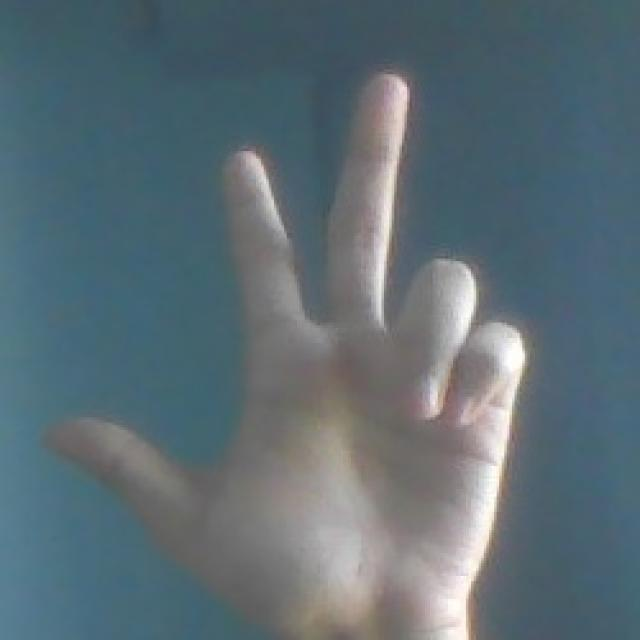Numeric-3: (42, 66, 530, 629)
